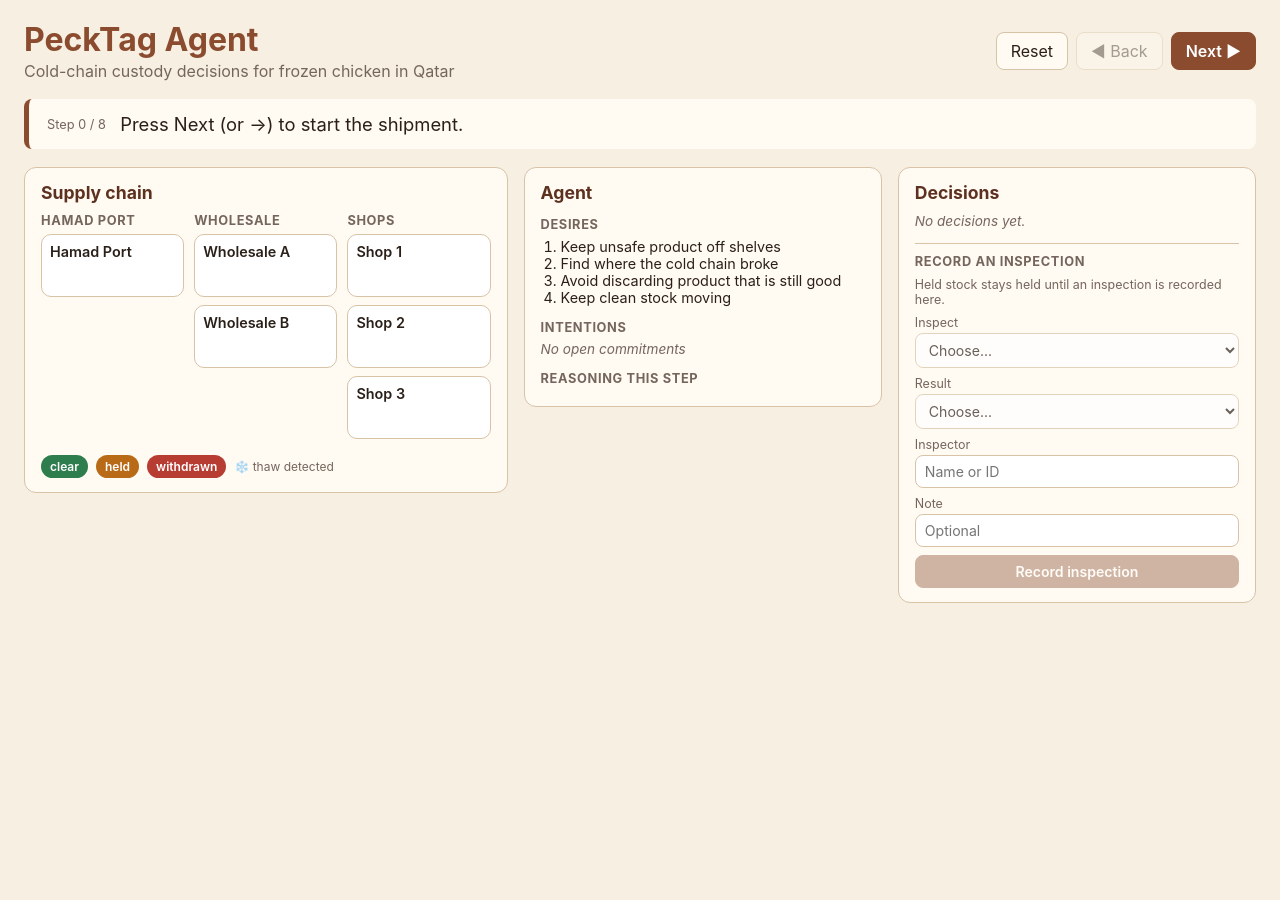
it: clicking a "Based on" source shows the text of the law or standard
What coordinates should you click on to do the following:
click the button "Next ▶"
I would click on:
 (1213, 50)
Its box is [1171,32,1256,70].
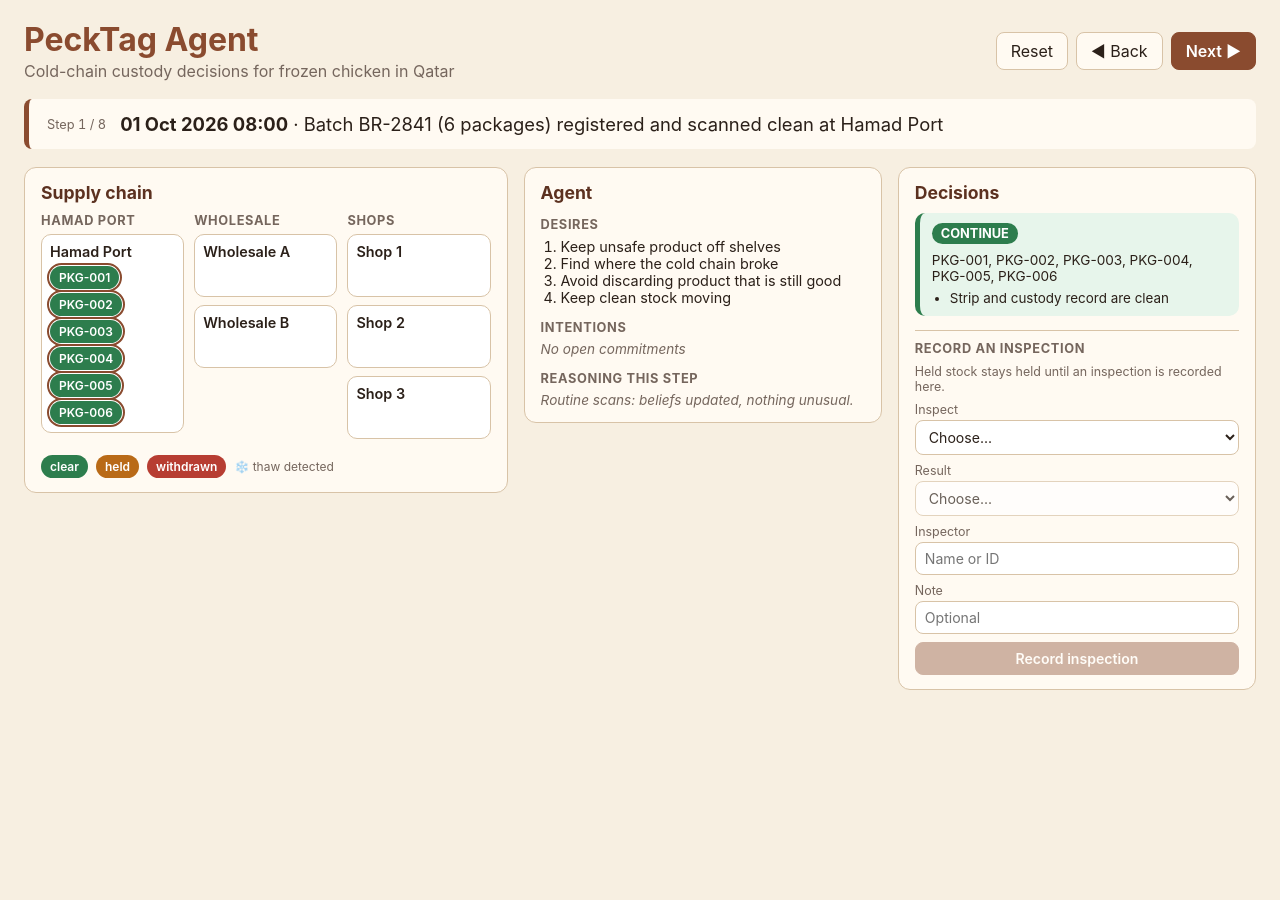
What coordinates should you click on to do the following:
click the button "Next ▶"
I would click on:
 (1213, 50)
Its box is [1171,32,1256,70].
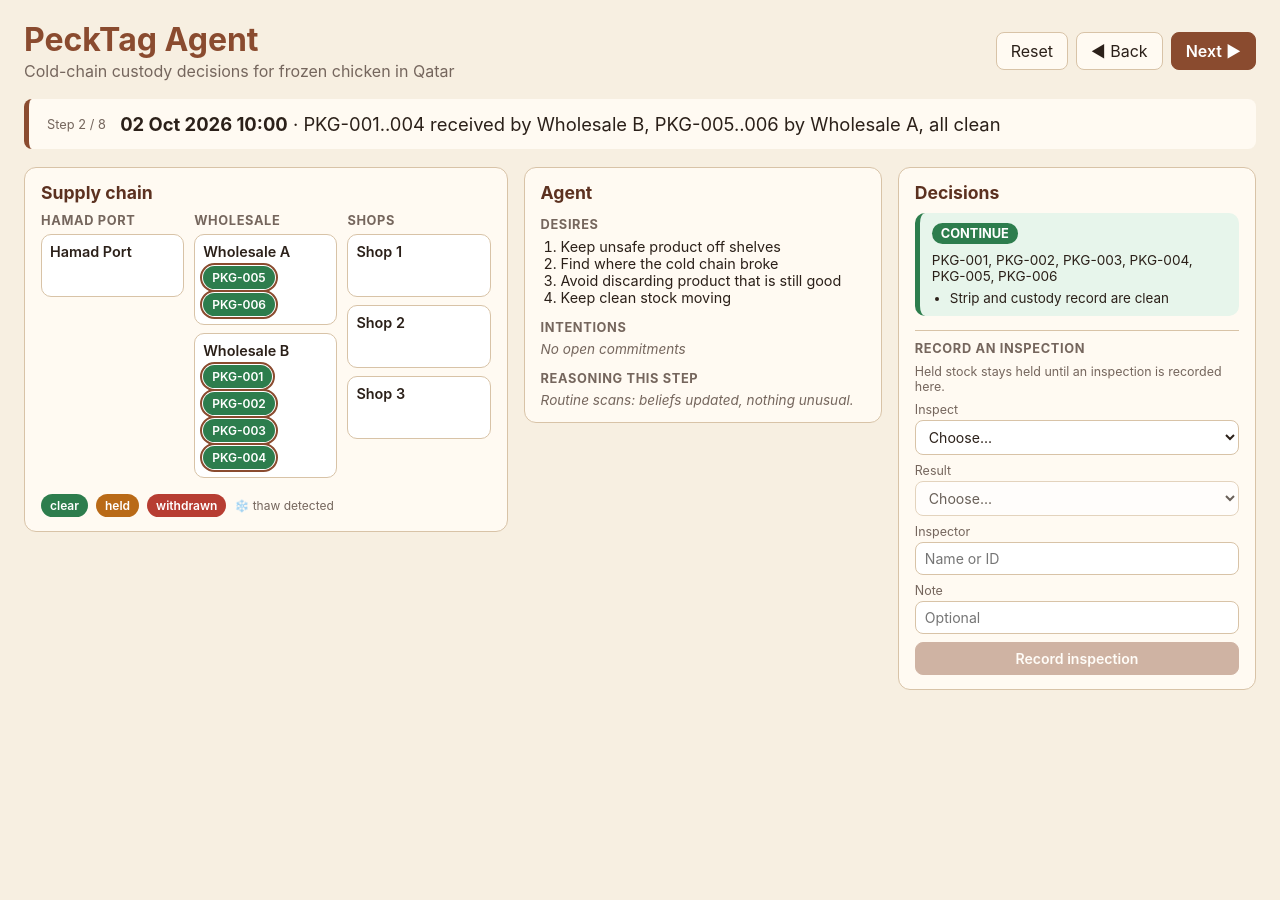
What coordinates should you click on to do the following:
click the button "Next ▶"
I would click on:
 (1213, 50)
Its box is [1171,32,1256,70].
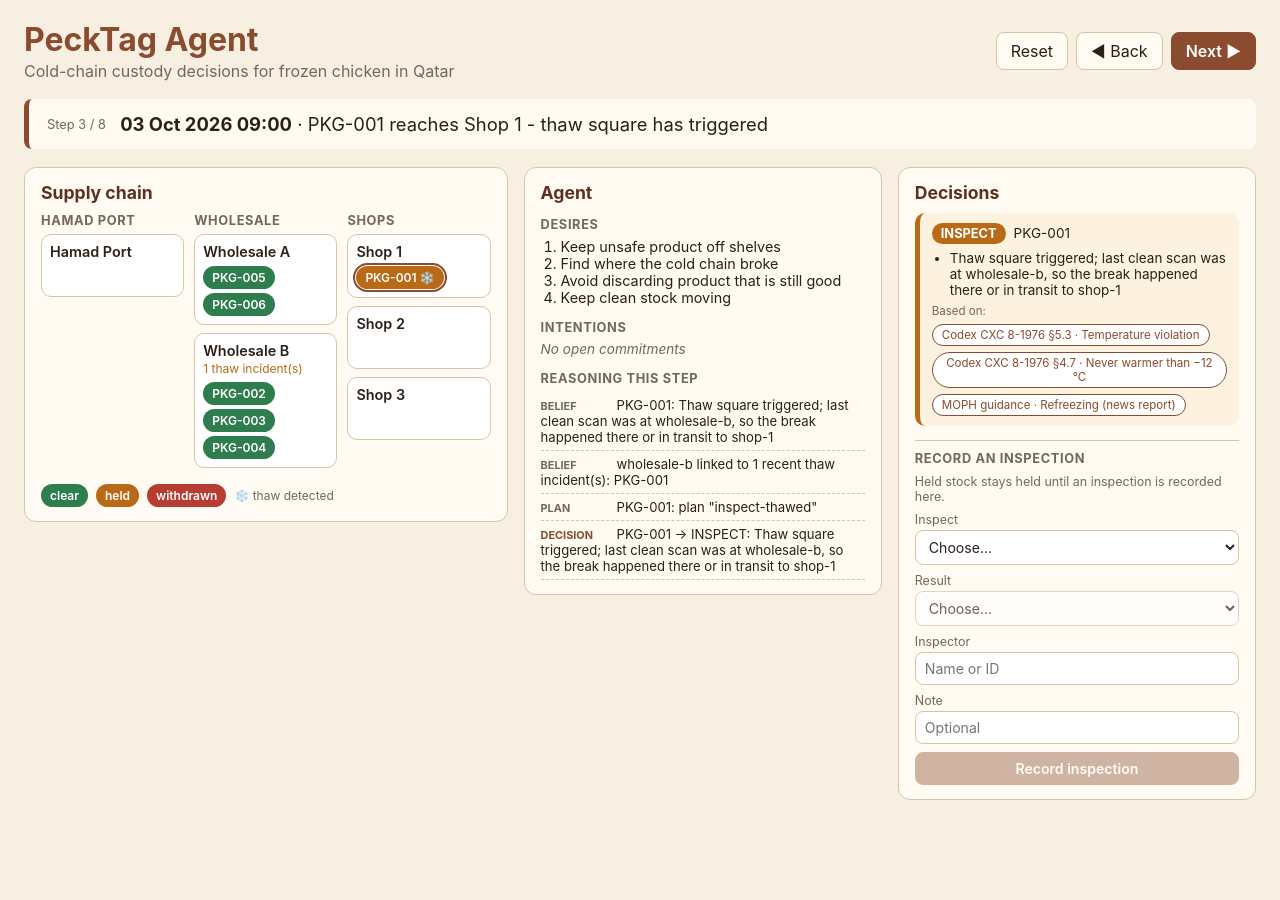
What coordinates should you click on to do the following:
click the button "Next ▶"
I would click on:
 (1213, 50)
Its box is [1171,32,1256,70].
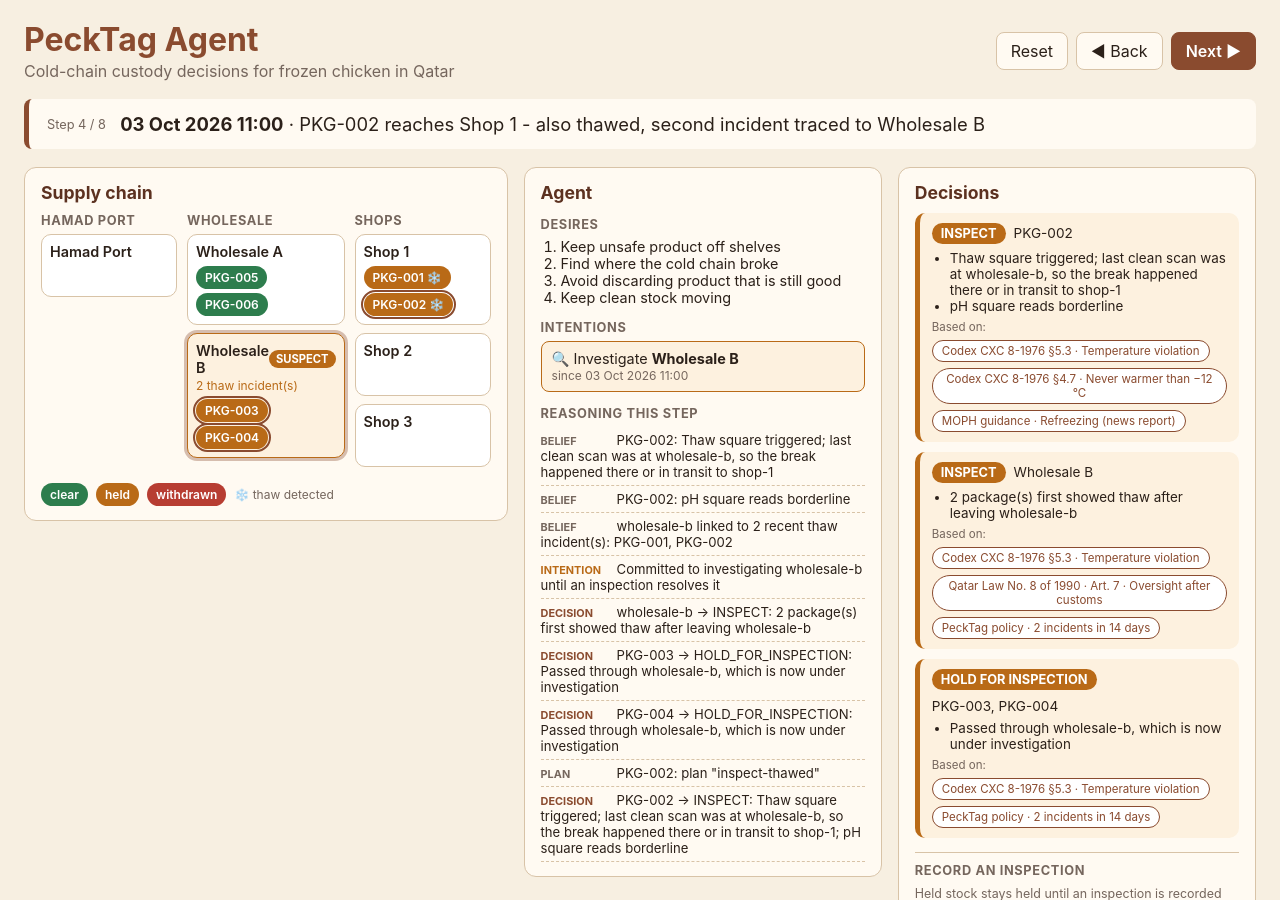
What coordinates should you click on to do the following:
click the button "Next ▶"
I would click on:
 (1213, 50)
Its box is [1171,32,1256,70].
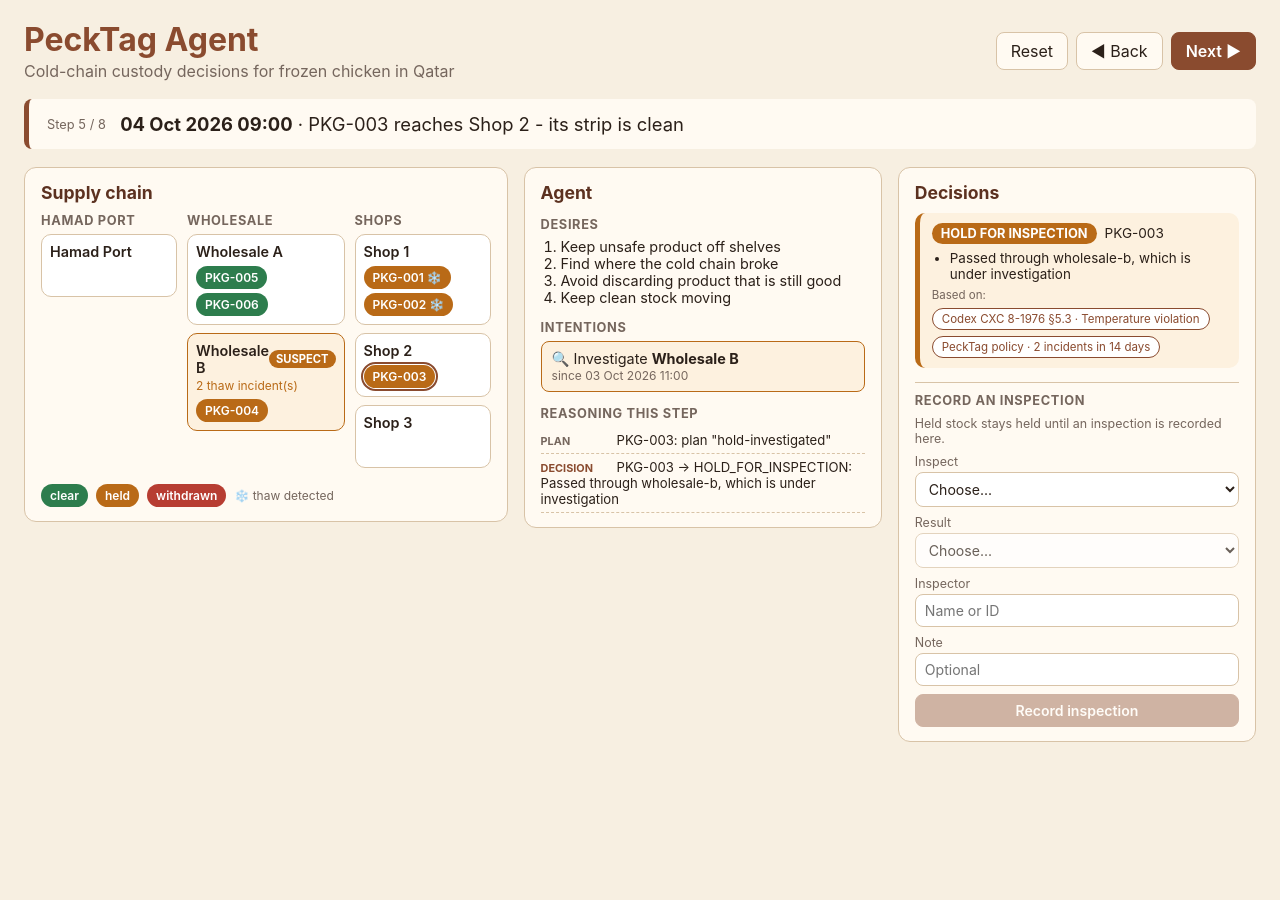
What coordinates should you click on to do the following:
click the button "Codex CXC 8-1976 §5.3 · Temperature violation"
I would click on:
 (1071, 319)
Its box is [932,308,1210,330].
(page scrolled)
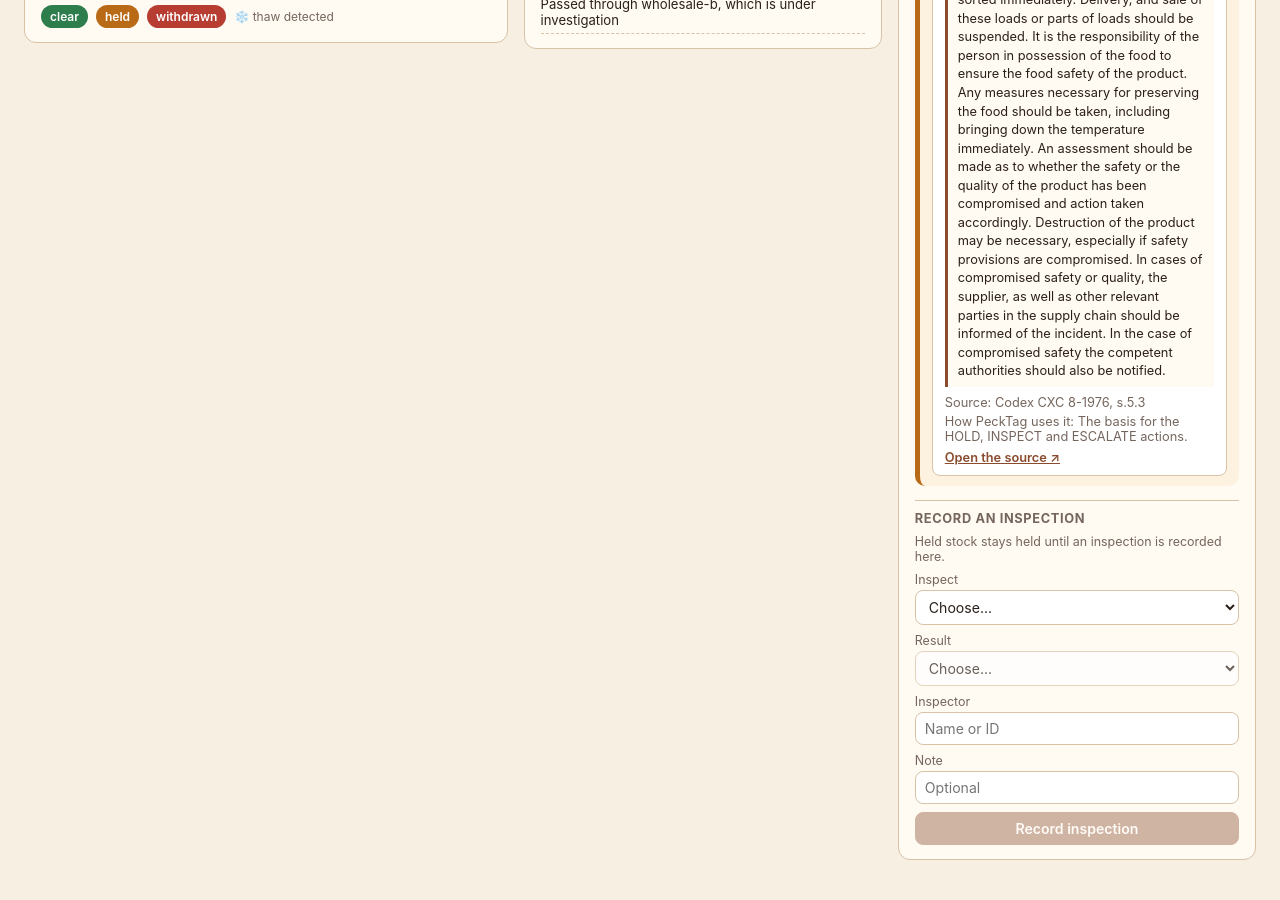
expect the link "Open the source ↗" is shown: met, box [945,450,1060,465]
